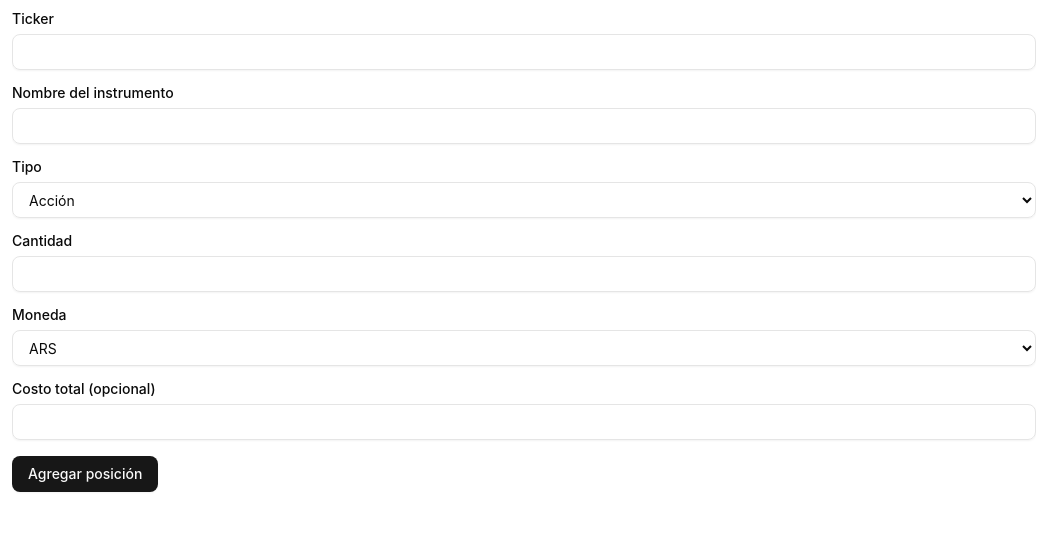
it: AddHoldingForm › shows a field error and sends nothing for quantity -3 (AC-03)
Type "AAPL" into the field labelled "Ticker" at {"x": 524, "y": 52}, box [12,34,1036,70]
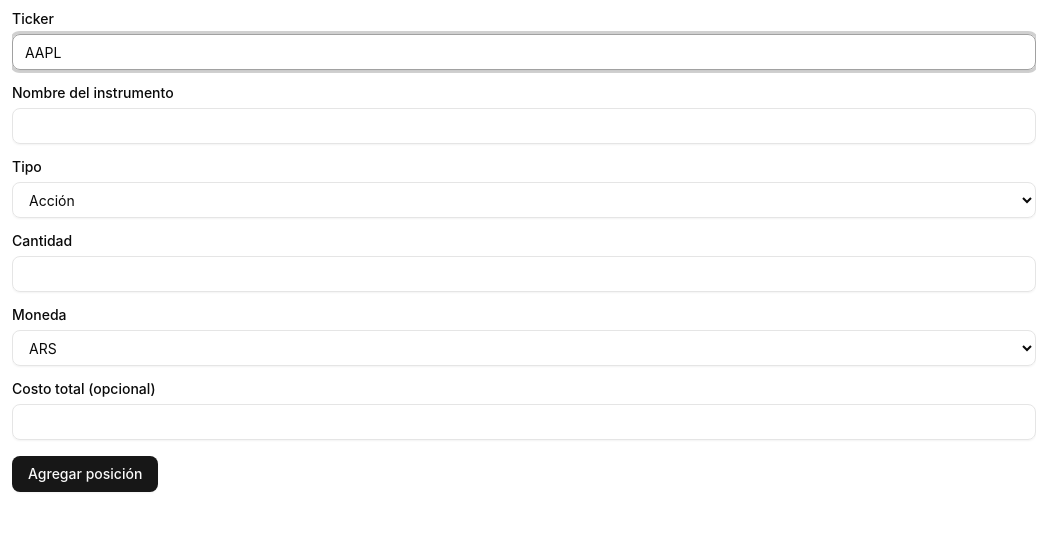
Type "Apple" into the field labelled "Nombre del instrumento" at {"x": 524, "y": 126}, box [12,108,1036,144]
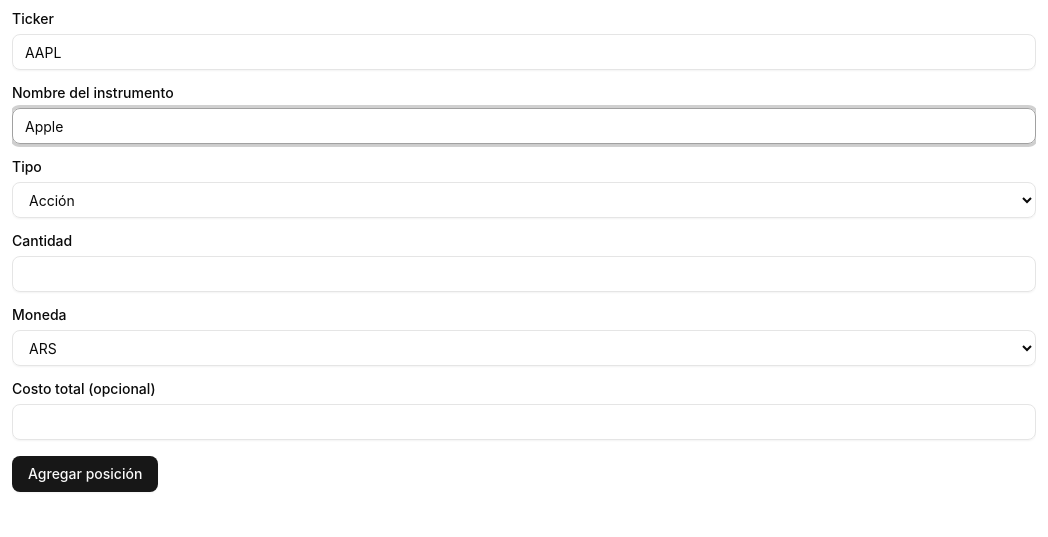
Type "-3" into the field labelled "Cantidad" at {"x": 524, "y": 274}, box [12,256,1036,292]
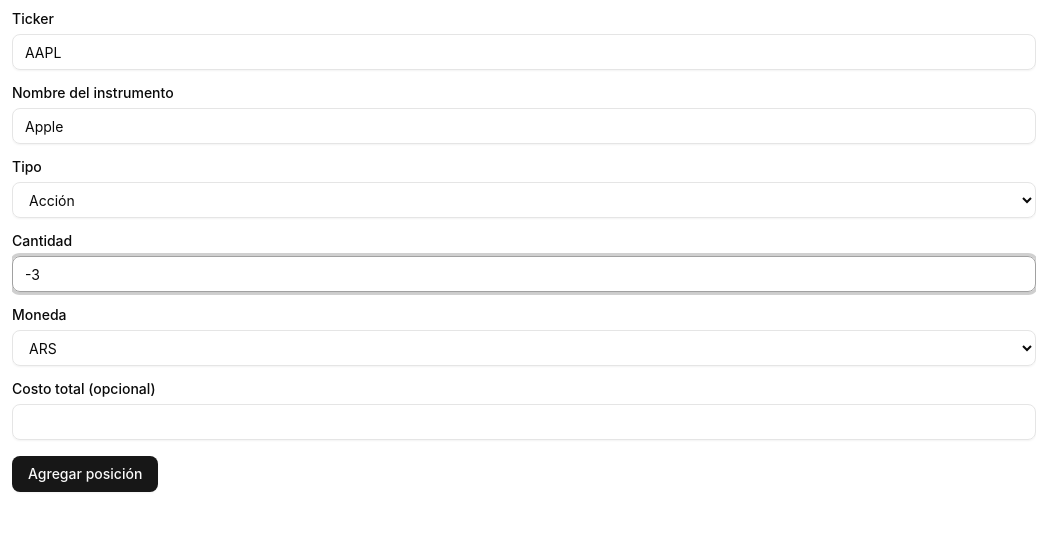
Click the button "Agregar posición" at {"x": 85, "y": 474}, box [12,456,158,492]
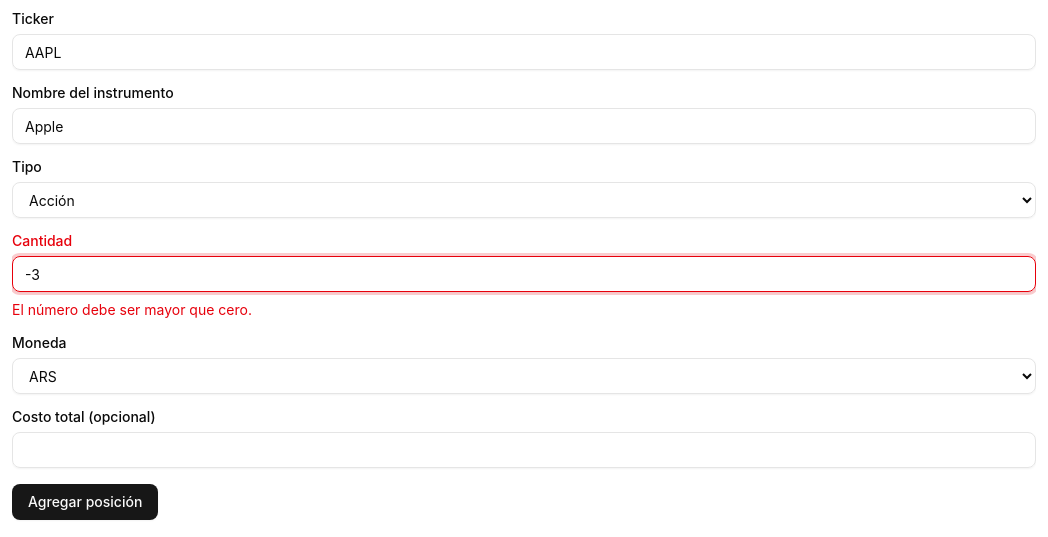
expect the text "El número debe ser mayor que cero." is shown: met, box [12,301,252,318]
